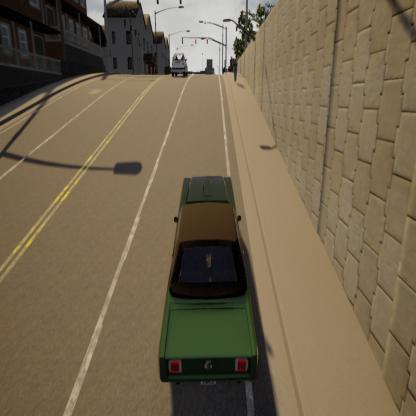Cars: (150, 167, 263, 399), (170, 50, 190, 79)
Pedestrian: (232, 53, 239, 84), (228, 53, 235, 74)
